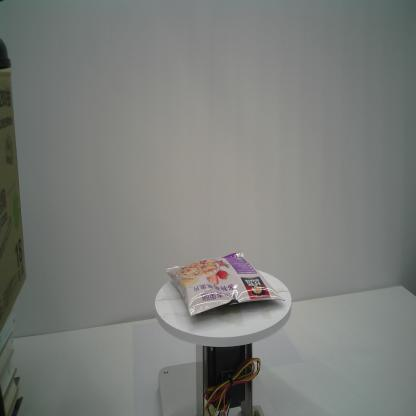Instant Drink: (165, 252, 286, 318)
